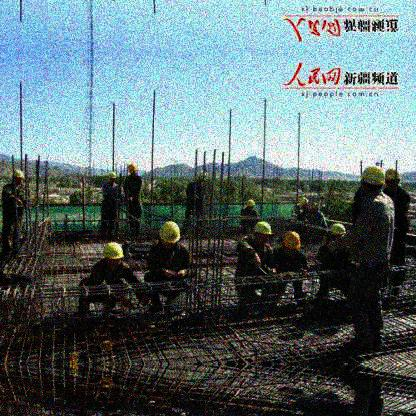helmet: (361, 167, 385, 195), (159, 220, 182, 249), (103, 241, 125, 270), (283, 231, 300, 255), (254, 221, 271, 243), (385, 168, 402, 189), (12, 169, 26, 186), (126, 163, 137, 177), (107, 169, 117, 184), (196, 170, 207, 183)
